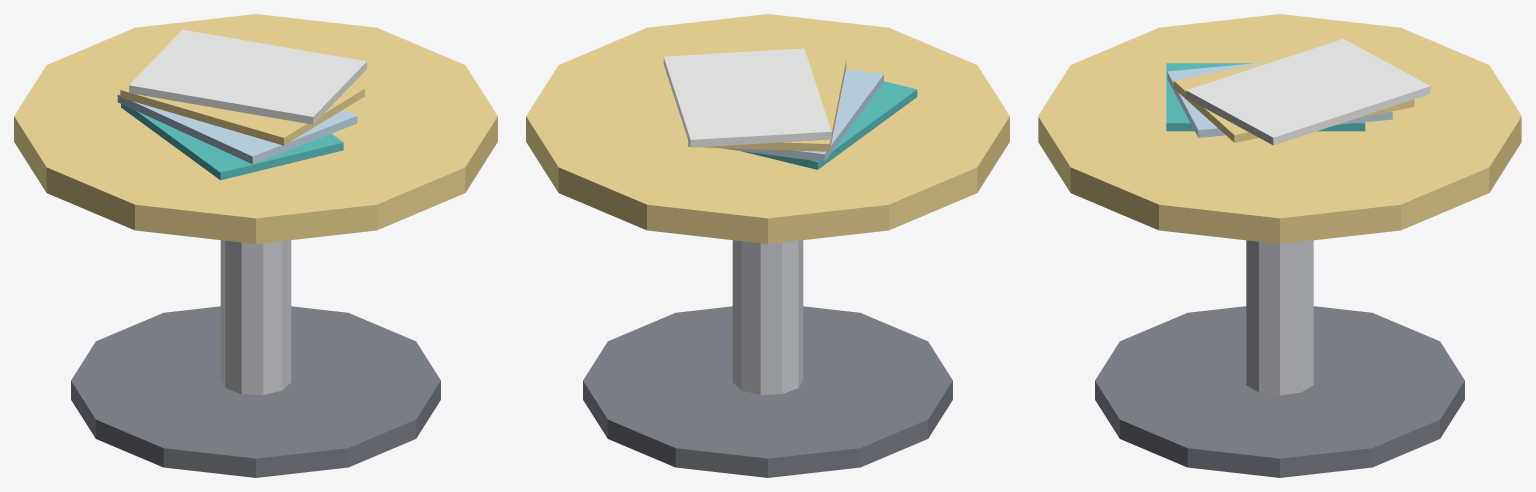
Rendered from medical-23640.glb.
3 renders of one model, left to right at view 1: azimuth 30°, elevation 25°; view 2: azimuth 150°, elevation 25°; view 3: azimuth 270°, elevation 25°, orthographic.
Parts seen in each view (by area): view 1: magazine-table; view 2: magazine-table; view 3: magazine-table.
Boxes of the visible parts, bbox=[...] form: magazine-table: bbox=[14, 14, 497, 477]; magazine-table: bbox=[526, 14, 1009, 477]; magazine-table: bbox=[1038, 14, 1521, 477].
Bounding box in the file's own units: 0.68 × 0.488 × 0.68.
